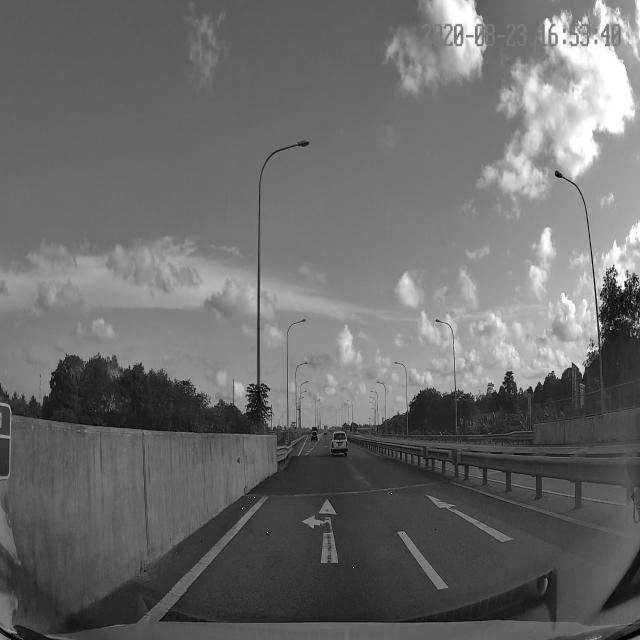forward_lft: (173, 488, 453, 590)
